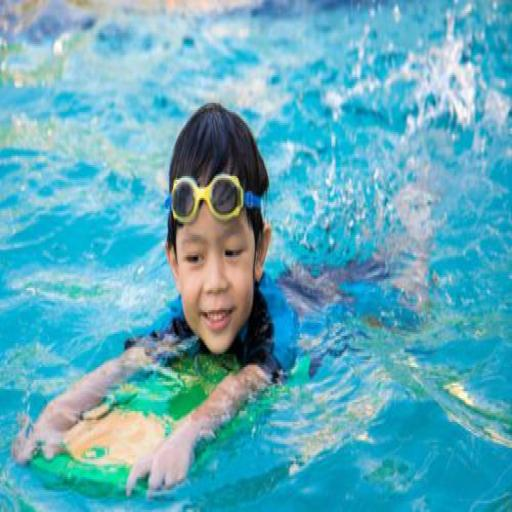swimming: (103, 59, 445, 438)
